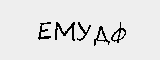Д: (91, 24, 110, 46)
Е: (35, 21, 52, 41)
М: (53, 20, 76, 42)
У: (76, 19, 91, 41)
Ф: (109, 21, 127, 44)
